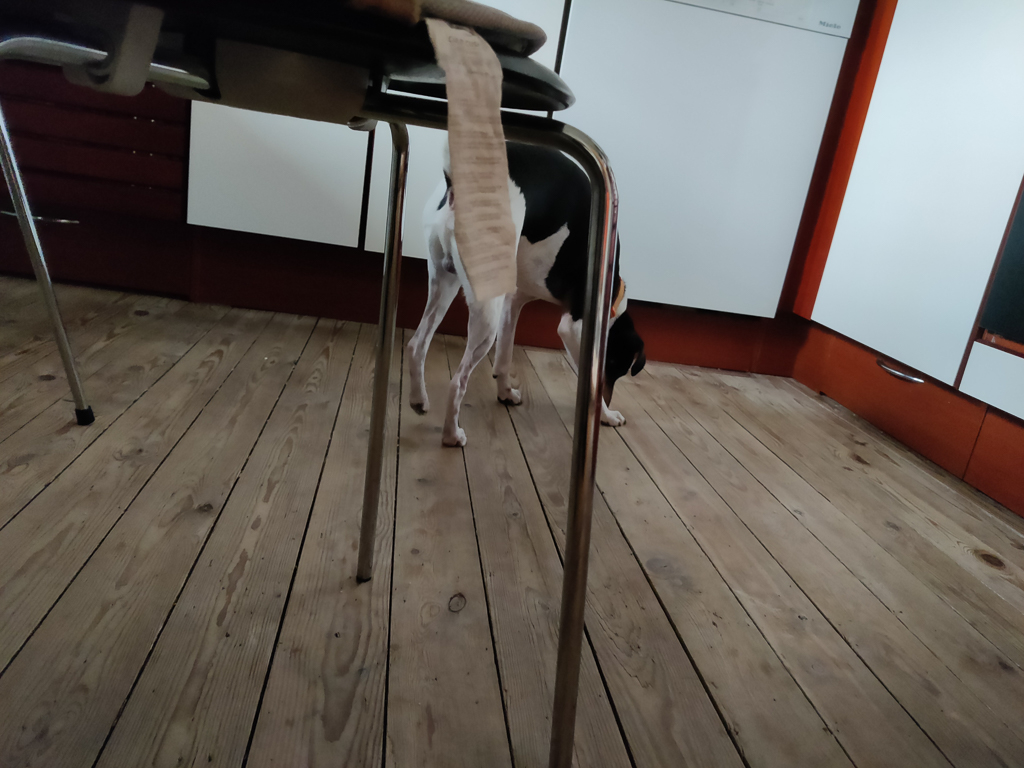Dog: (399, 108, 665, 462)
